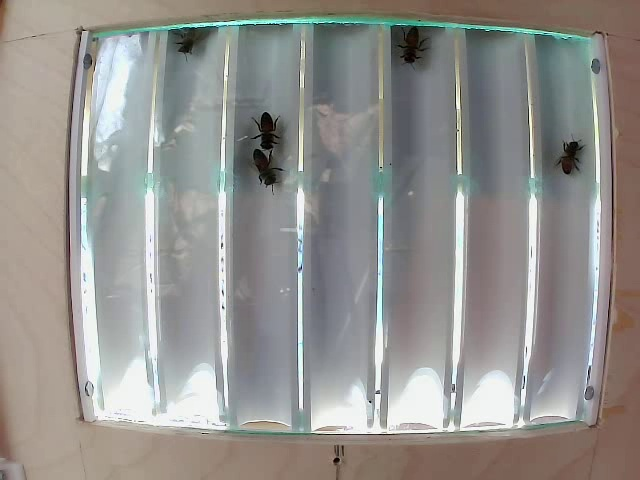bee: (238, 138, 282, 192), (169, 18, 216, 66), (246, 110, 282, 154), (398, 26, 428, 71), (556, 131, 584, 174)
